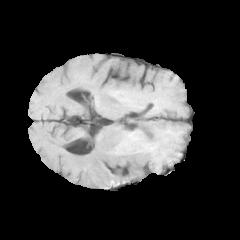glioma: (56, 120, 173, 186)
